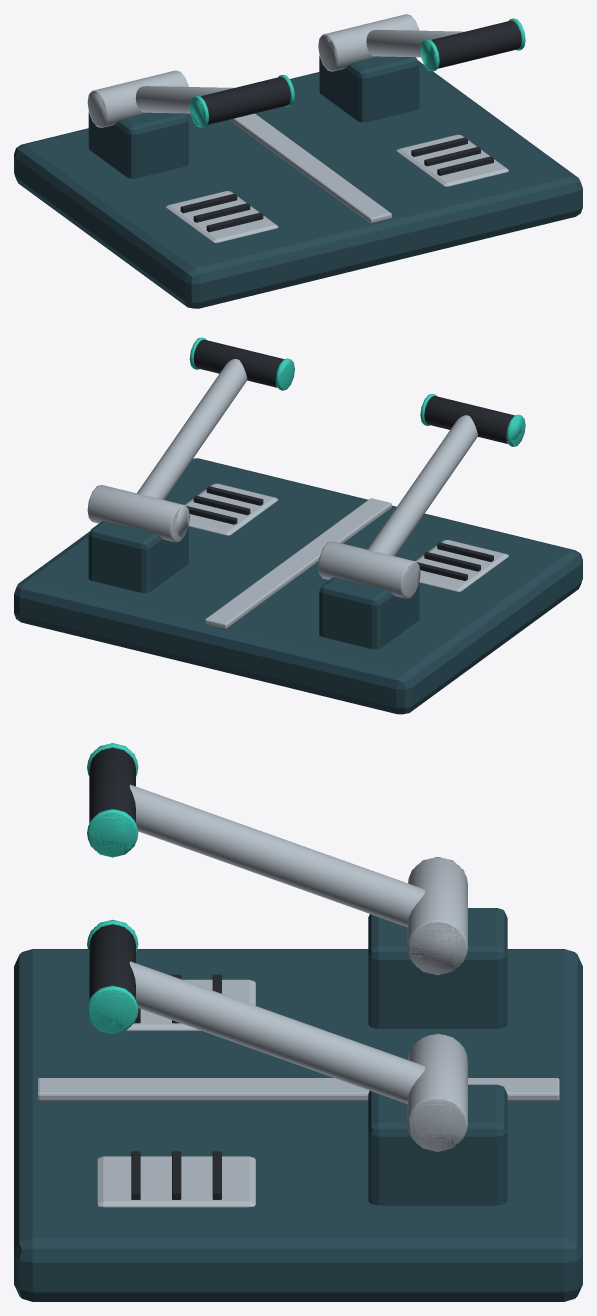
File: pump-handcar.glb
3 renders of one model, top to bottom at view 1: azimuth 30°, elevation 25°; view 2: azimuth 150°, elevation 25°; view 3: azimuth 270°, elevation 25°, orthographic. The views are drawn at different scales.
Visible parts, largest first — view 1: frame, pump_plinth, pump_plinth.001, centre_trim, handle, handle.001, pump_hinge, pump_hinge.001, pedal, pedal.001, lever.001, lever (+7 smaller); view 2: frame, pump_plinth, pump_plinth.001, lever, lever.001, centre_trim, pump_hinge.001, pump_hinge, handle.001, handle, pedal.001, pedal; view 3: frame, pump_plinth, pump_plinth.001, lever.001, lever, centre_trim, pedal, pump_hinge, pump_hinge.001, handle, handle.001, pump_hinge.003 (+6 smaller).
Boxes of the visible parts, bbox=[...] form: frame: bbox=[14, 60, 582, 308]; pump_plinth: bbox=[319, 56, 419, 122]; pump_plinth.001: bbox=[88, 112, 188, 178]; centre_trim: bbox=[229, 113, 391, 223]; handle: bbox=[431, 20, 521, 68]; handle.001: bbox=[200, 77, 290, 124]; pump_hinge: bbox=[318, 14, 418, 71]; pump_hinge.001: bbox=[88, 70, 187, 127]; pedal: bbox=[396, 134, 508, 186]; pedal.001: bbox=[166, 191, 278, 242]; lever.001: bbox=[135, 86, 233, 113]; lever: bbox=[366, 29, 464, 57]; frame: bbox=[14, 458, 582, 714]; pump_plinth: bbox=[88, 521, 188, 593]; pump_plinth.001: bbox=[319, 577, 419, 649]; lever: bbox=[137, 359, 247, 499]; lever.001: bbox=[367, 415, 477, 556]; centre_trim: bbox=[205, 498, 391, 628]; pump_hinge.001: bbox=[318, 541, 419, 598]; pump_hinge: bbox=[88, 485, 189, 541]; handle.001: bbox=[424, 396, 514, 443]; handle: bbox=[194, 340, 283, 387]; pedal.001: bbox=[415, 540, 508, 591]; pedal: bbox=[185, 483, 278, 535]; frame: bbox=[14, 949, 582, 1301]; pump_plinth: bbox=[368, 1084, 507, 1205]; pump_plinth.001: bbox=[368, 908, 507, 1028]; lever.001: bbox=[129, 784, 425, 927]; lever: bbox=[129, 961, 425, 1103]; centre_trim: bbox=[37, 1078, 559, 1101]; pedal: bbox=[97, 1156, 255, 1207]; pump_hinge: bbox=[407, 1034, 467, 1150]; pump_hinge.001: bbox=[407, 857, 467, 973]; handle: bbox=[89, 924, 135, 999]; handle.001: bbox=[89, 748, 135, 823]; pump_hinge.003: bbox=[407, 857, 467, 975].
Size of the model in its own units: 0.62 by 0.277 by 0.49.
